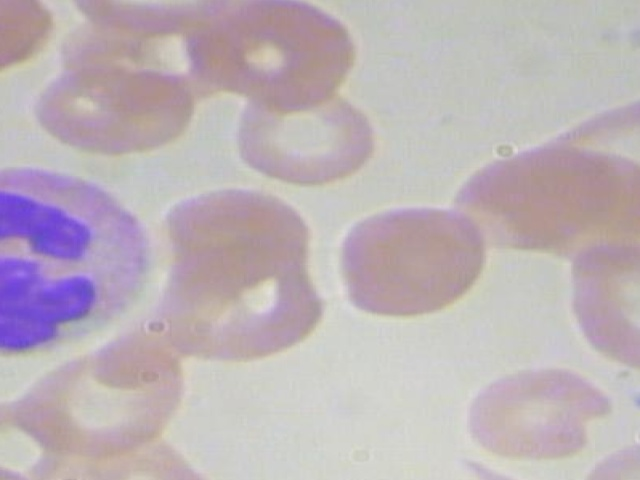Platelets: (624, 378, 640, 425)
RBC: (16, 334, 201, 458), (326, 199, 491, 331), (178, 0, 363, 109), (448, 353, 620, 467), (26, 52, 203, 159), (226, 78, 390, 190), (550, 232, 640, 376), (0, 0, 63, 90)
WBC: (0, 158, 179, 358)
